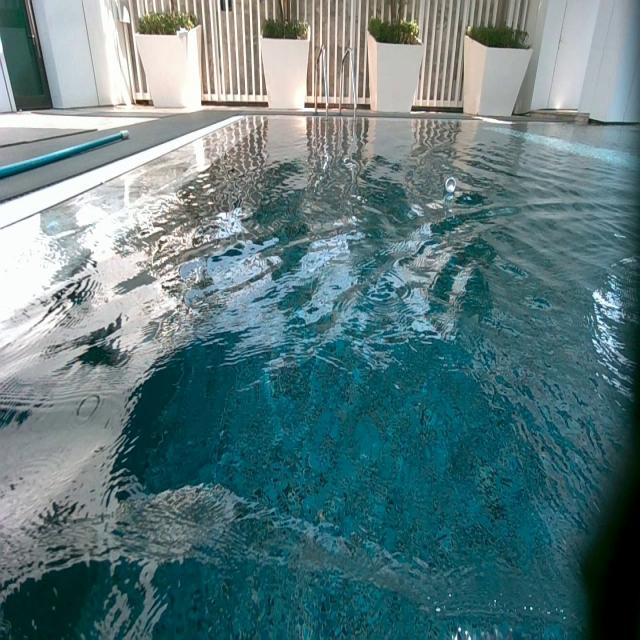Cans: (446, 178, 456, 190)
